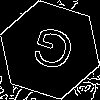G: (25, 25, 78, 81)
